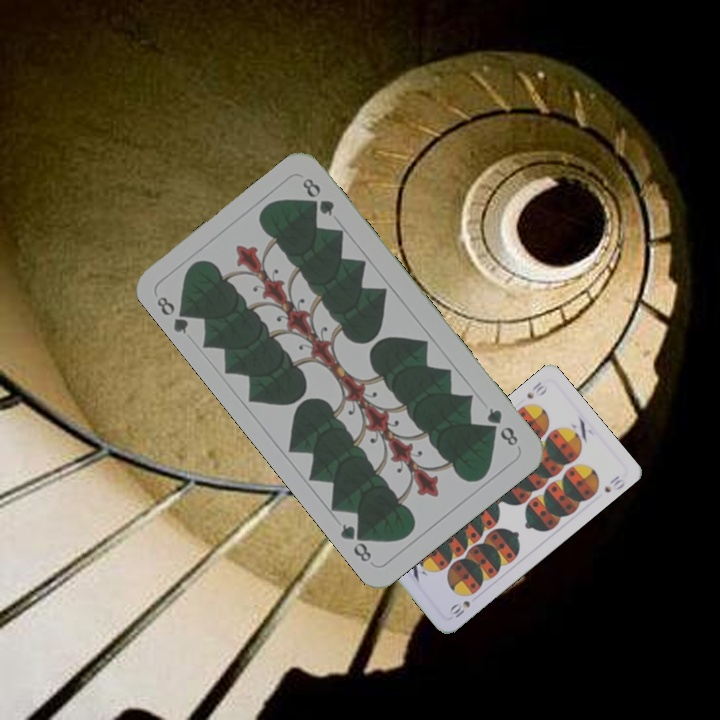G8: (152, 292, 196, 337), (482, 403, 521, 449)
S10: (445, 596, 473, 621), (522, 378, 550, 402)
